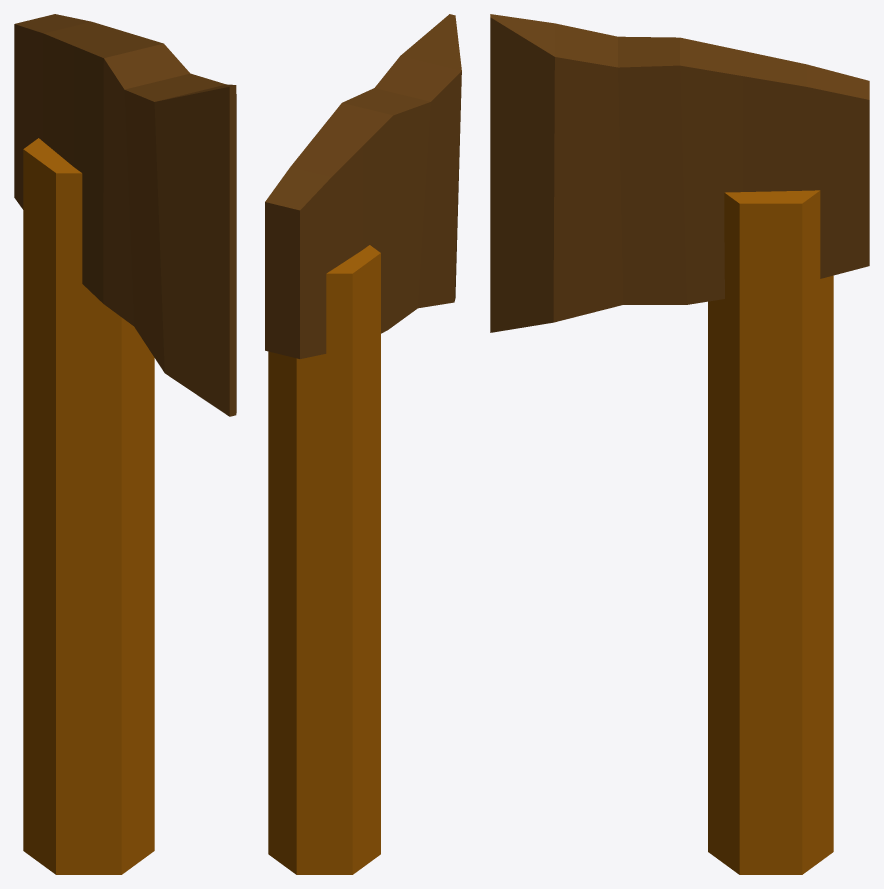
The model's file is Axe.glb.
3 views of the same model, side by side, from view 1: azimuth 30°, elevation 25°; view 2: azimuth 150°, elevation 25°; view 3: azimuth 270°, elevation 25° (orthographic). The views are drawn at different scales.
Parts seen in each view (by area): view 1: Cylinder, Cube; view 2: Cylinder, Cube; view 3: Cube, Cylinder.
Part boxes in pixels (<box>): Cylinder: <box>23,138,154,874</box>; Cube: <box>14,14,236,416</box>; Cylinder: <box>268,245,380,874</box>; Cube: <box>265,14,461,358</box>; Cube: <box>490,14,869,332</box>; Cylinder: <box>708,190,833,874</box>.
Bounding box in the file's own units: 0.2562 × 2.17 × 0.8947.
